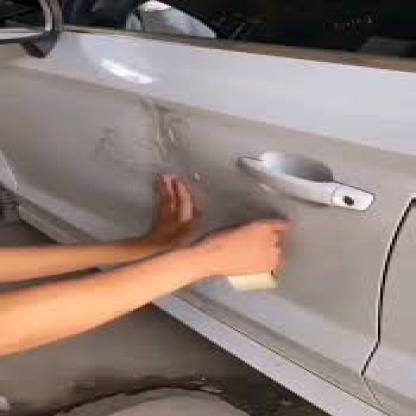dent: (100, 85, 210, 174)
